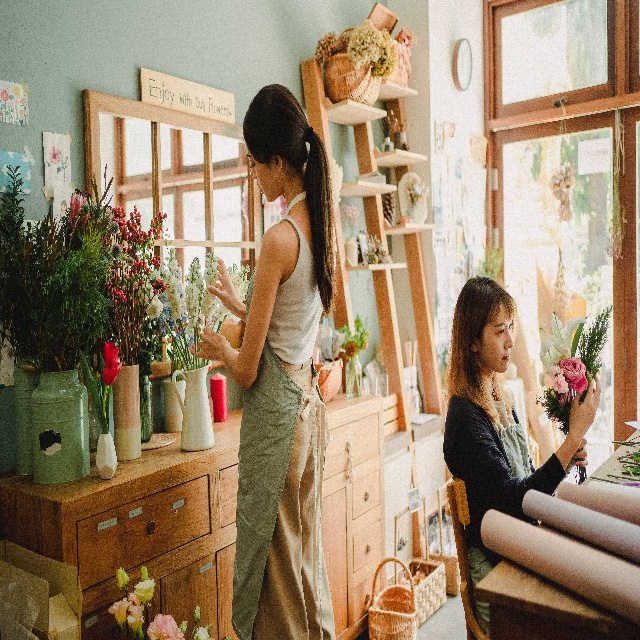Sin_guantes: (204, 254, 240, 318), (570, 375, 602, 442), (196, 324, 227, 364), (574, 439, 588, 471)
